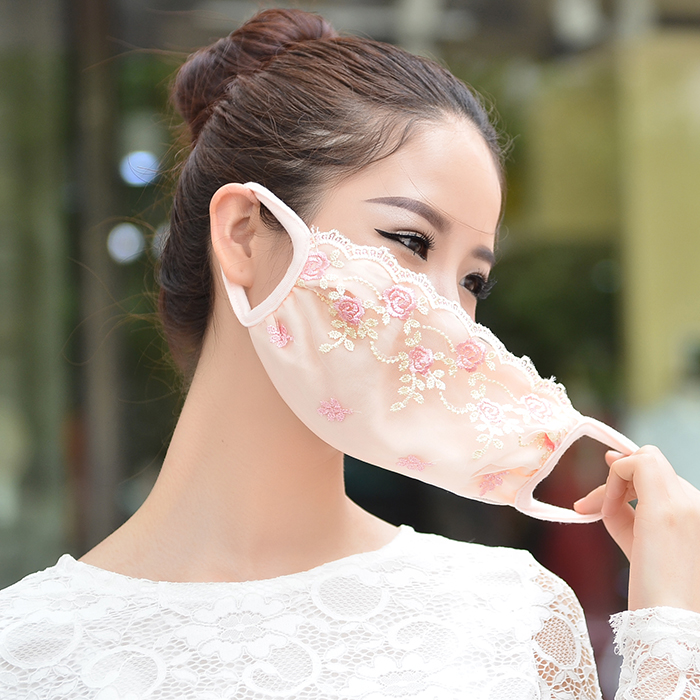face_mask: (275, 123, 502, 439)
